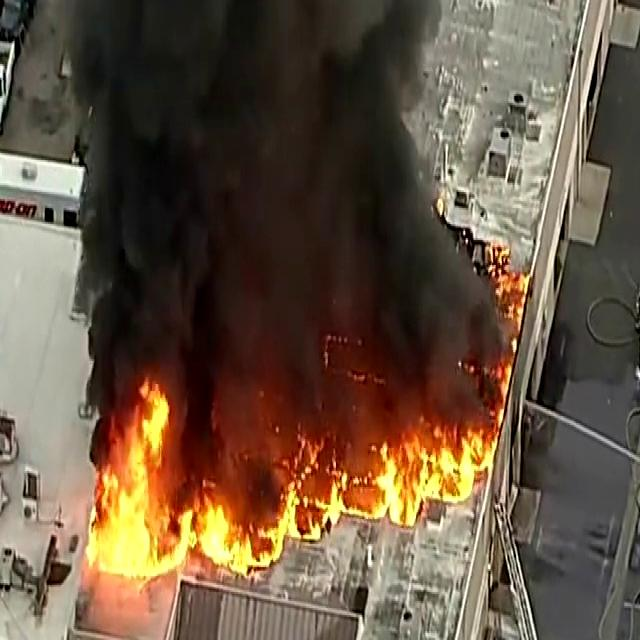fire: (99, 418, 187, 600), (367, 424, 509, 534), (198, 454, 312, 579)
smoke: (110, 0, 390, 329)
